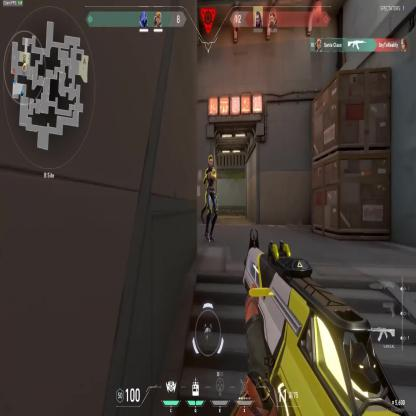enemy: (203, 153, 219, 243)
enemy_head: (208, 155, 213, 168)
